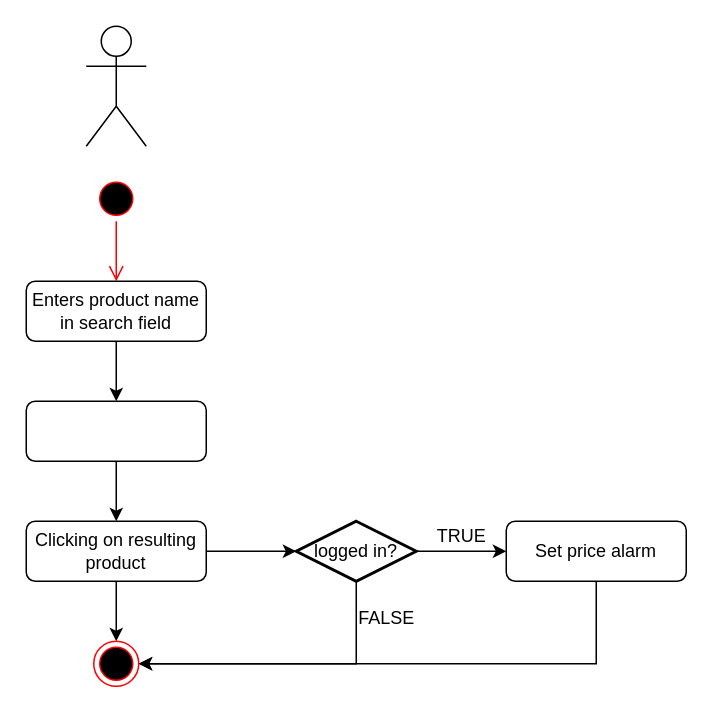
Image size: 713x713. Some labels were removed from this diagram. The centre of each missing label's shape, as x and y in pixels:
Clicking "Search" or pressing "Enter": [115,430]
User: [115,85]
